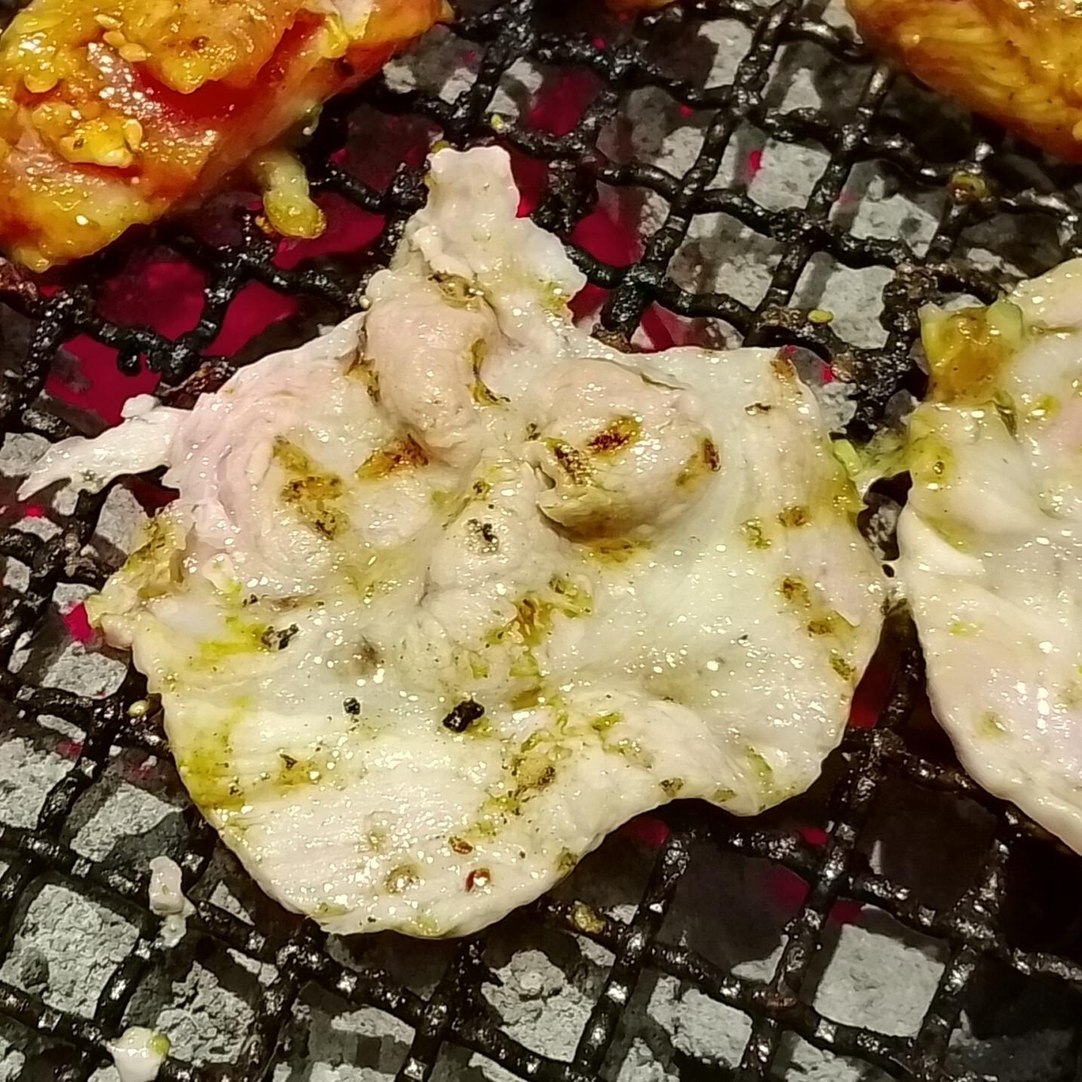Undercooked: (120, 145, 887, 942), (0, 0, 452, 274), (893, 257, 1081, 863)
